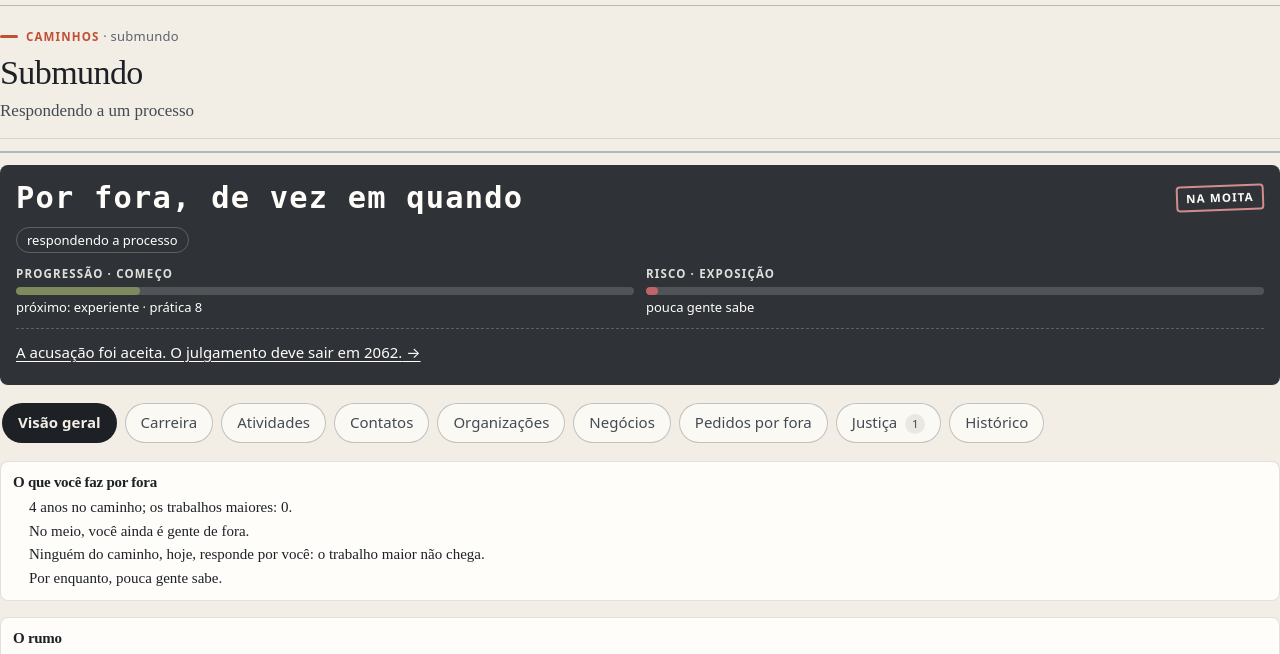
Scenario: UI-12.25-01 · uma tela só › quem tem anos de histórico e responde a processo NÃO vê a introdução: vê o estado, as partes e a Justiça
Expected: the element that starts with "Por fora, de vez em quando" shows "respondendo a processo", [27,231,178,249]
Click the tab "Justiça 1".
click(889, 423)  # box [836,403,941,443]
(page scrolled)
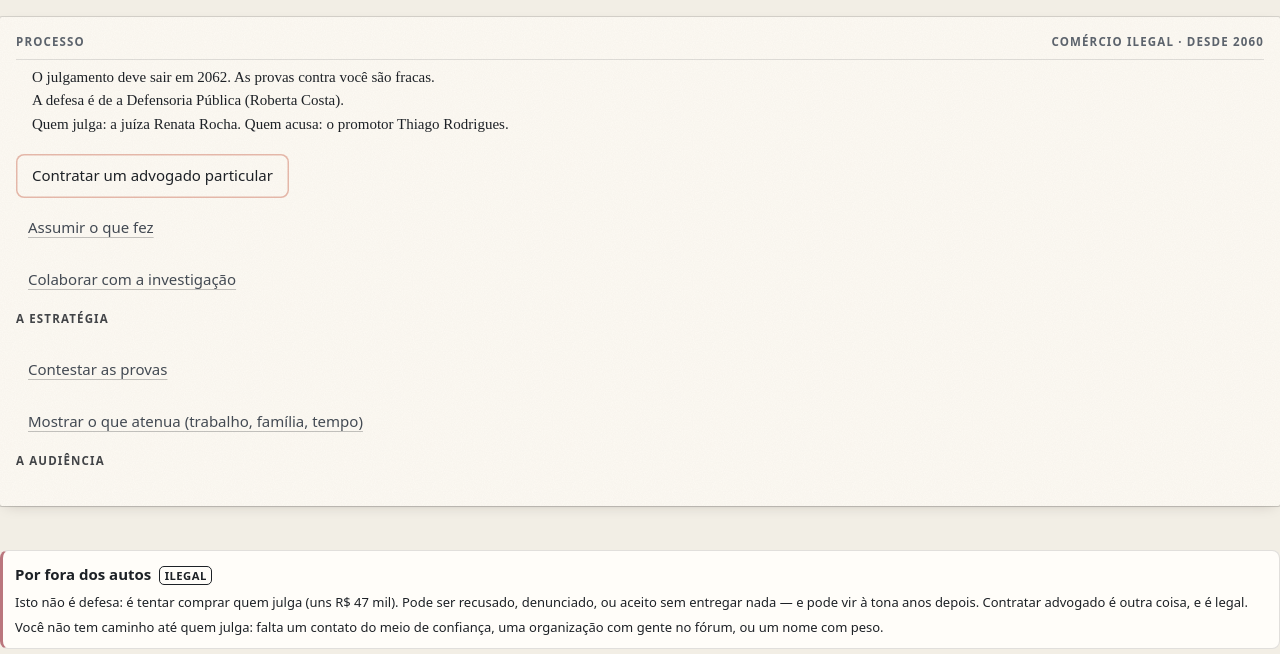
Now the element named "O processo" is shown
